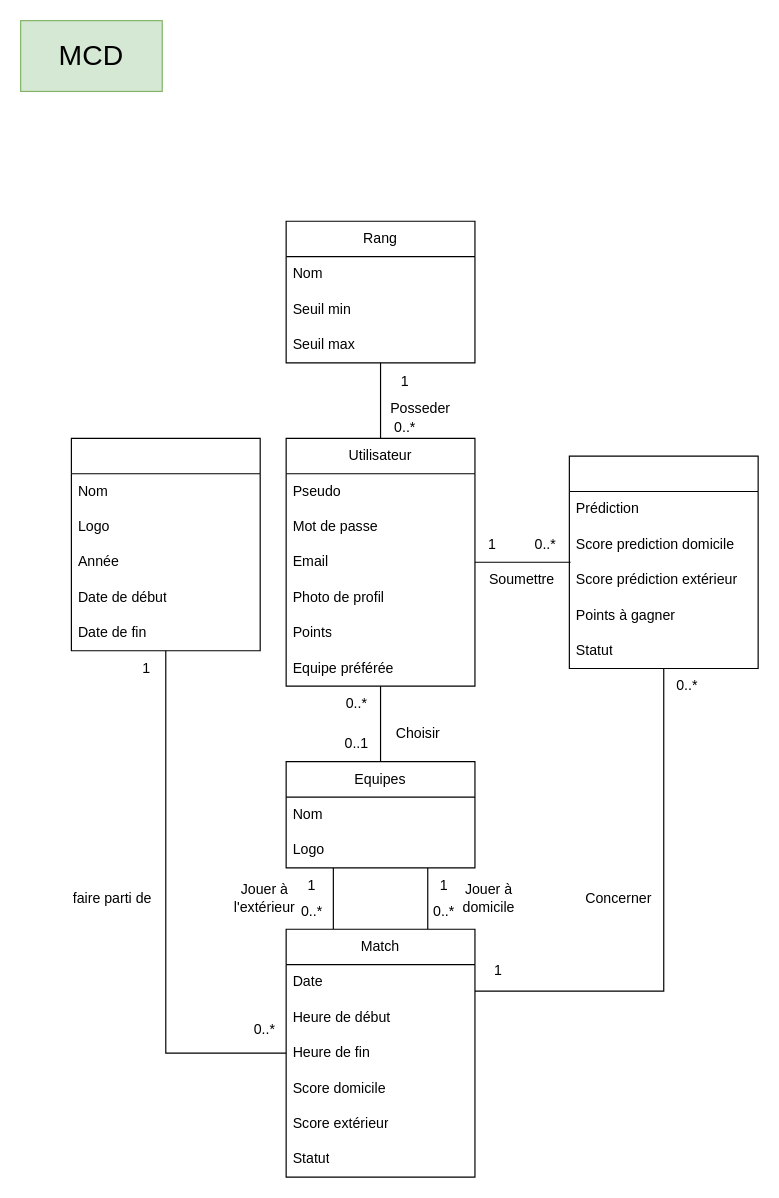
This 779x1198 diagram has some shape labels left out. Each missing label, with the box of its shape:
Compétition: (70, 437, 260, 651)
Pronostic: (568, 455, 758, 668)
